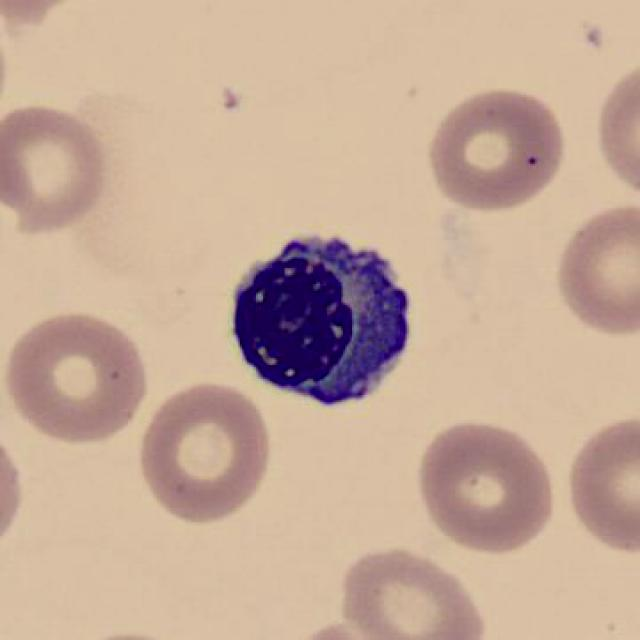RBC: (134, 377, 276, 527), (3, 307, 153, 448), (411, 414, 558, 557), (421, 83, 571, 215), (329, 541, 491, 640), (0, 99, 110, 238), (550, 198, 638, 342), (562, 409, 638, 557), (592, 58, 638, 208), (272, 619, 421, 640)
